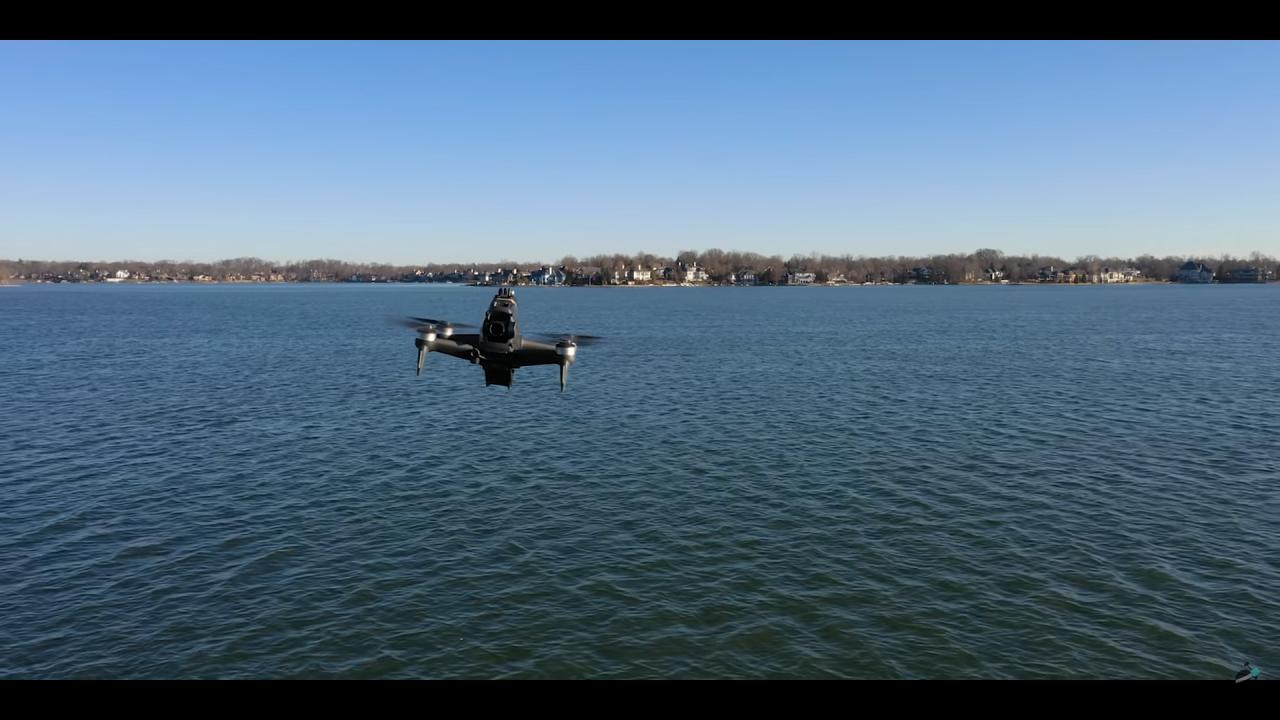Drone: (383, 282, 617, 404)
